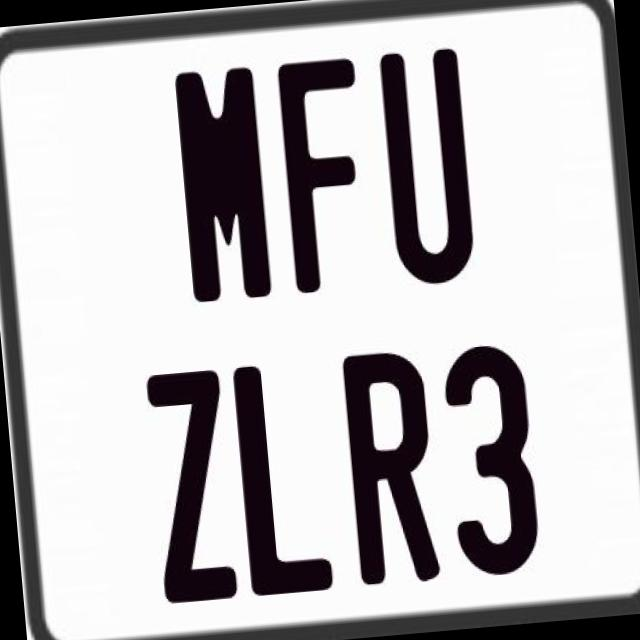3: (440, 340, 546, 582)
F: (272, 56, 371, 295)
L: (228, 360, 332, 594)
M: (174, 66, 272, 307)
R: (338, 348, 441, 594)
U: (376, 47, 478, 290)
Z: (143, 368, 241, 612)
